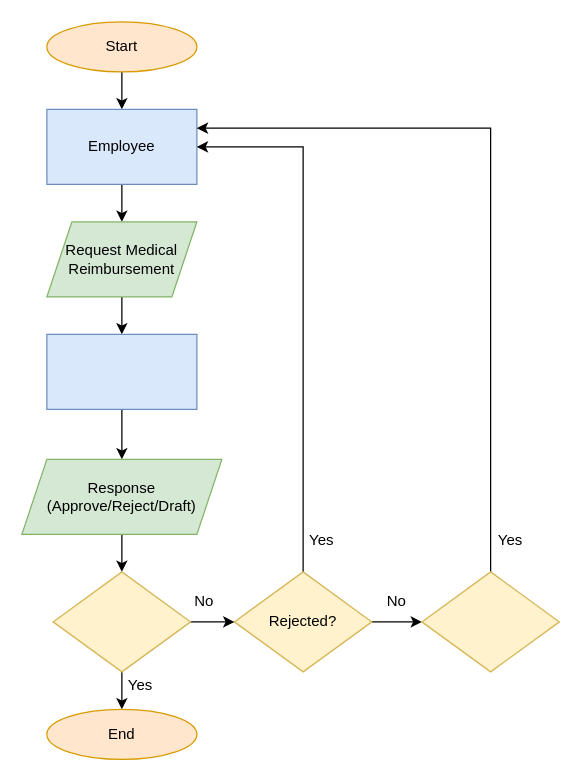
Image size: 581x781. Some labels were removed from this diagram. The box of each missing label's shape, as (x1, y1, x2, y2) in pixels:
Approved?: (52, 571, 191, 672)
Human Resource: (46, 333, 197, 409)
Set to Draft?: (421, 571, 559, 672)
